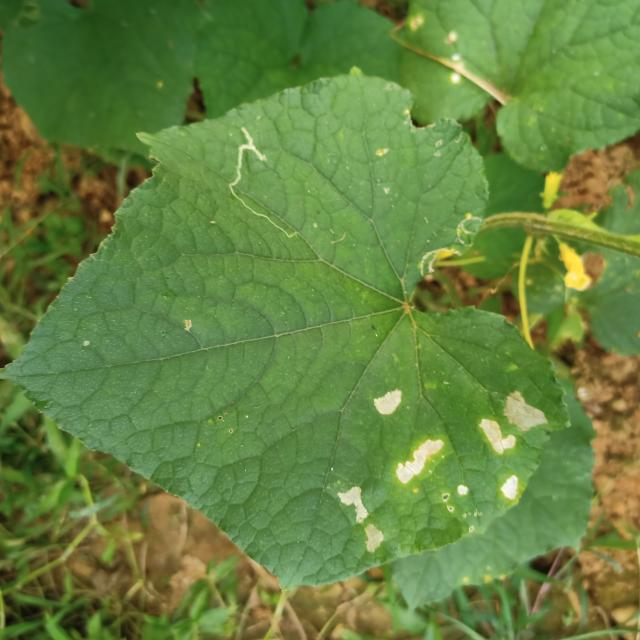disease_cucumber: (473, 386, 549, 508), (392, 434, 474, 513), (333, 477, 389, 560), (368, 382, 408, 422)
